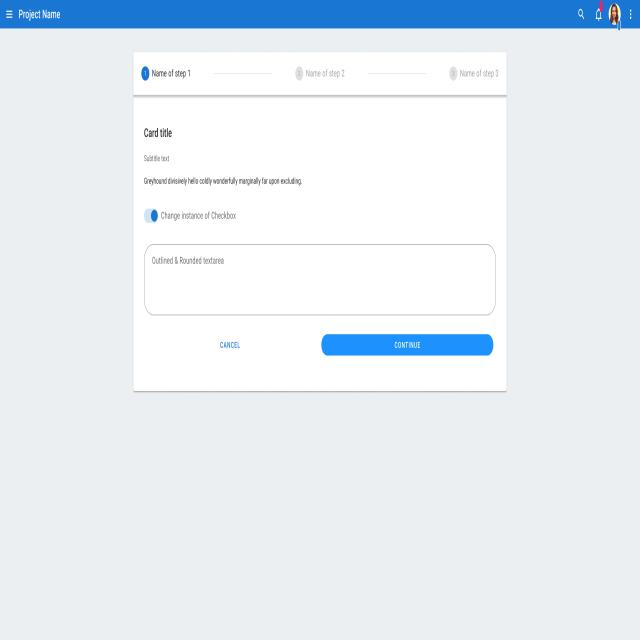QLabel: (143, 175, 305, 188), (16, 8, 62, 21), (143, 126, 172, 140), (144, 154, 170, 163), (393, 341, 421, 349), (219, 341, 241, 349)
VAppBar: (0, 0, 640, 30)
VBadge: (608, 3, 622, 29), (596, 1, 602, 22)
VBtn: (144, 333, 319, 357), (321, 334, 494, 356)
VCard: (132, 97, 508, 393)
VIcon: (577, 8, 586, 20), (5, 9, 14, 20), (629, 9, 632, 20)
VStepper: (133, 51, 507, 96)
VSwitch: (144, 208, 237, 224)
VTextarea: (143, 243, 497, 316)
